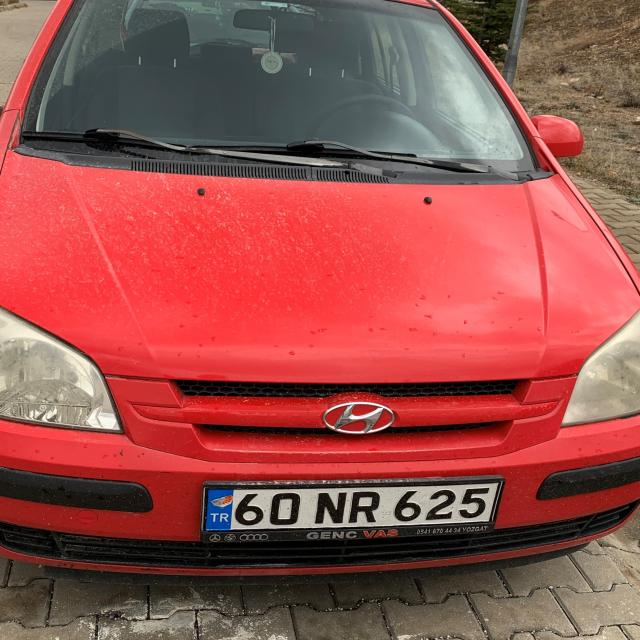license_plate: (203, 483, 501, 530)
